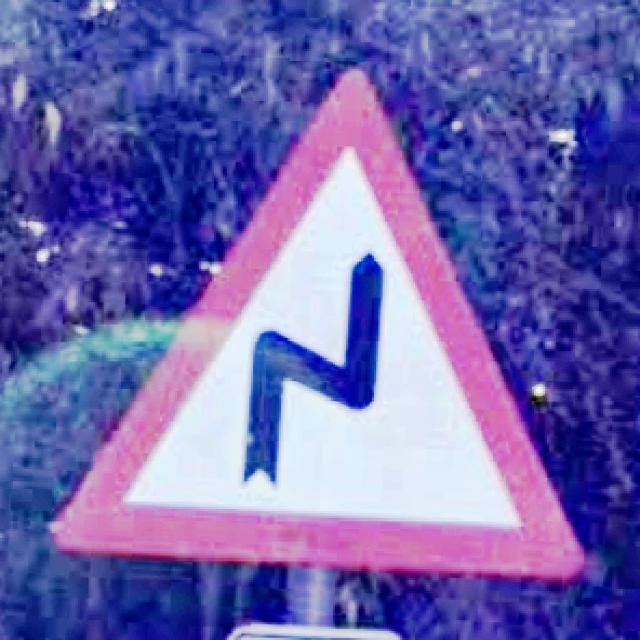doublebendright: (54, 71, 586, 584)
